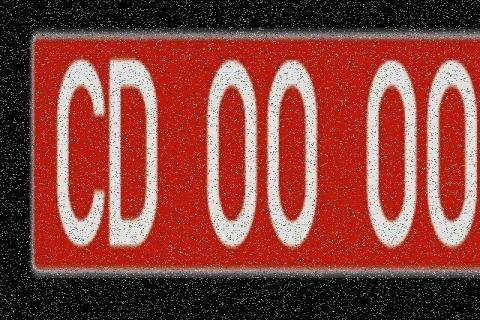LicensePlate: (0, 6, 480, 301)
